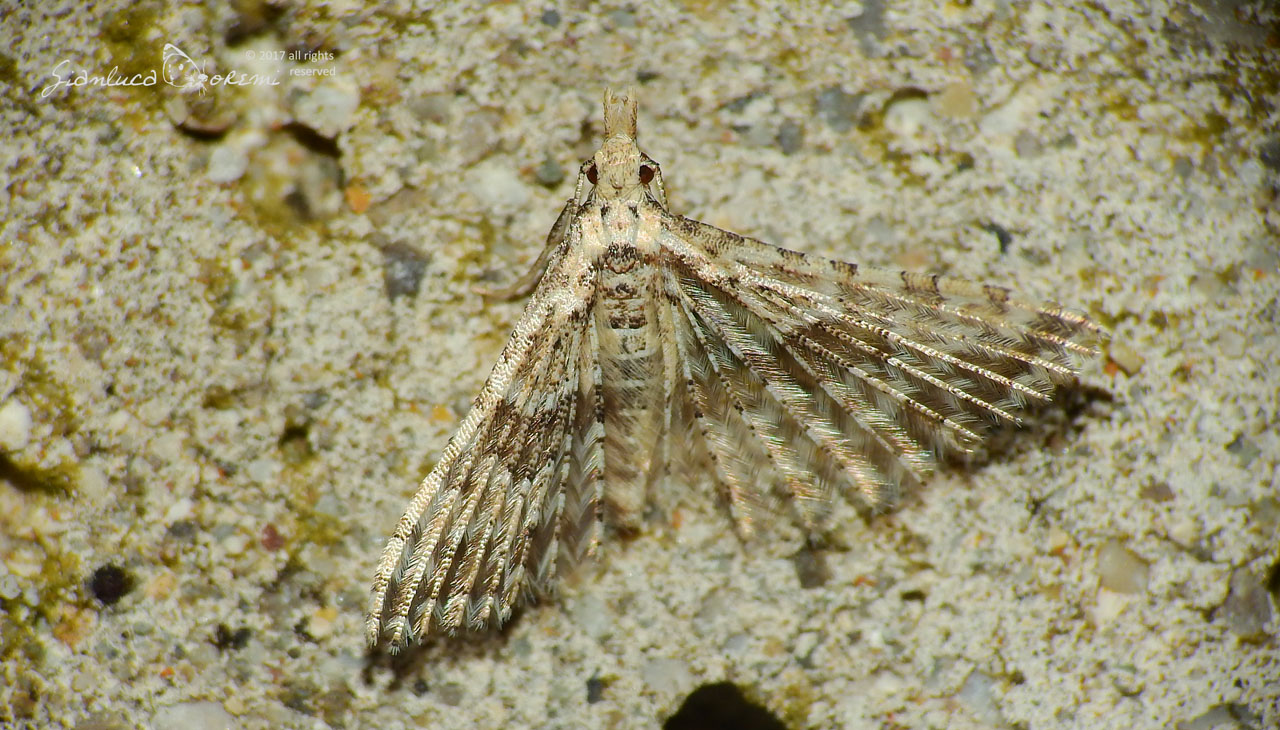Alucitidae: (369, 80, 1140, 665)
moth: (367, 78, 1138, 663)
